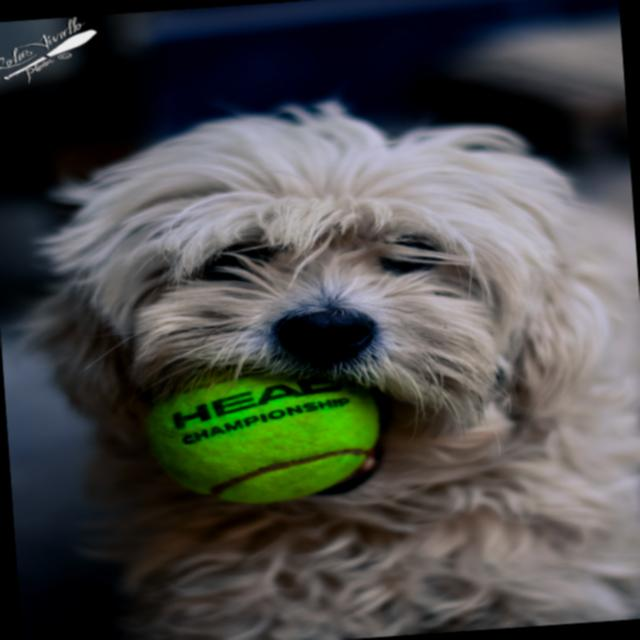Tennis ball: (133, 366, 384, 512)
